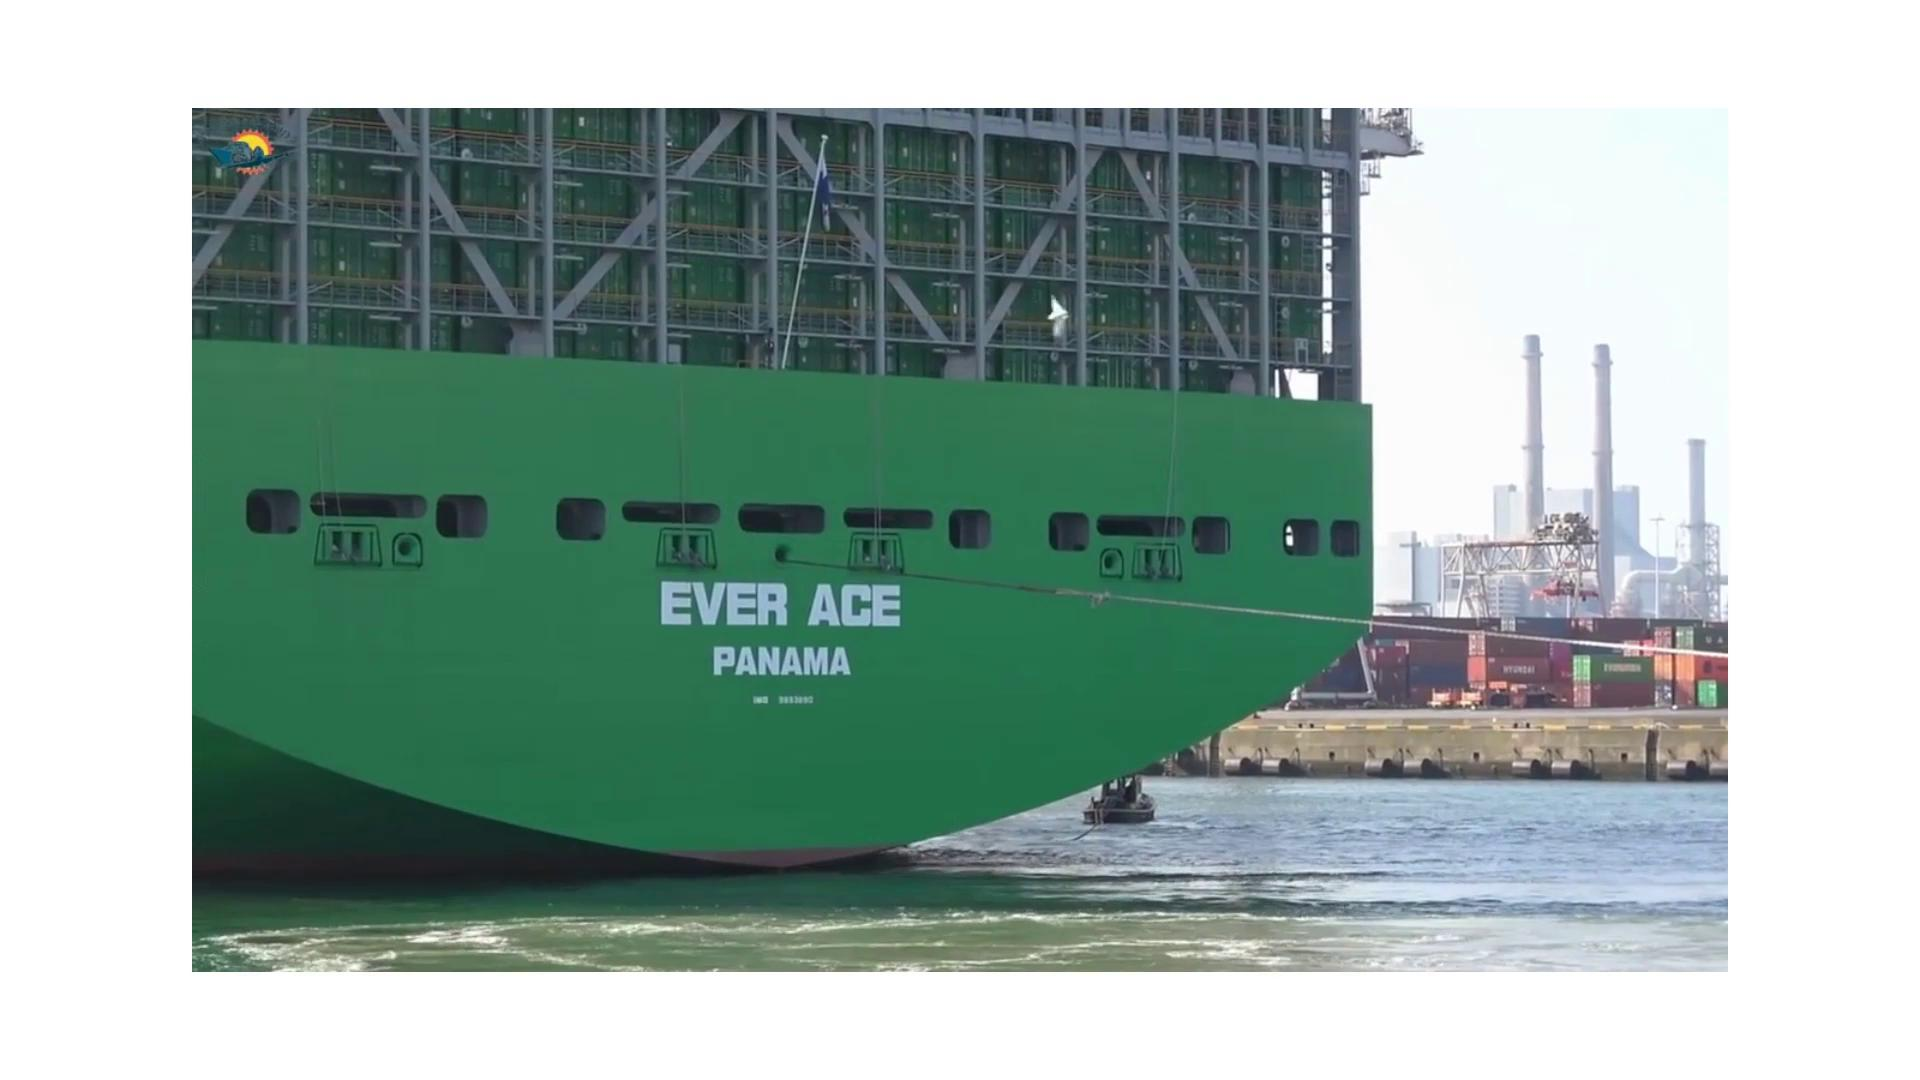OCR: (632, 558, 930, 695)
